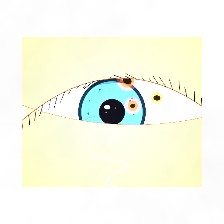foreign_body_visible: (140, 84, 174, 112)
